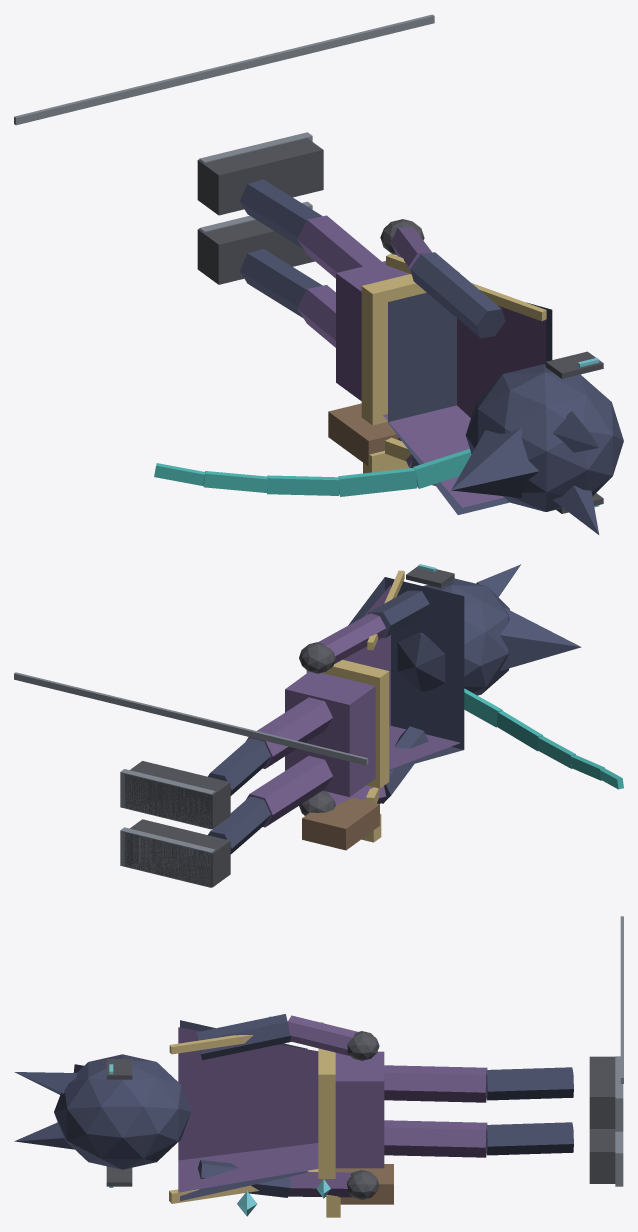
Rendered from vex_vale_lowpoly_blockout_static.glb.
3 renders of one model, top to bottom at view 1: azimuth 30°, elevation 25°; view 2: azimuth 150°, elevation 25°; view 3: azimuth 270°, elevation 25°, orthographic. The views are drawn at different scales.
Parts seen in each view (by area): view 1: CH_Vex_Hood_Cowl, CH_Vex_Torso_Undersuit, CH_Vex_Cropped_Jacket, CH_Vex_Shoe_R, CH_Vex_Belt, CH_Vex_Ground_Reference_DeleteMe, CH_Vex_Shoe_L, CH_Vex_Hood_BackPoint, CH_Vex_Pelvis, CH_Vex_UpperArm_R, CH_Vex_UpperLeg_R, CH_Vex_LowerLeg_L (+14 smaller); view 2: CH_Vex_Cropped_Jacket, CH_Vex_Hood_Cowl, CH_Vex_Pelvis, CH_Vex_Shoe_R, CH_Vex_Shoe_L, CH_Vex_Sole_L, CH_Vex_Ground_Reference_DeleteMe, CH_Vex_Satchel_CameraSide, CH_Vex_UpperLeg_L, CH_Vex_Belt, CH_Vex_Sole_R, CH_Vex_Torso_Undersuit (+15 smaller); view 3: CH_Vex_Torso_Undersuit, CH_Vex_Hood_Cowl, CH_Vex_Pelvis, CH_Vex_UpperLeg_L, CH_Vex_UpperLeg_R, CH_Vex_LowerLeg_L, CH_Vex_LowerLeg_R, CH_Vex_Belt, CH_Vex_UpperArm_R, CH_Vex_Shoe_R, CH_Vex_Forearm_R, CH_Vex_Shoe_L (+15 smaller).
Part boxes in pixels (x1,y1,x2,y2): CH_Vex_Hood_Cowl: [465, 364, 623, 511]; CH_Vex_Torso_Undersuit: [383, 305, 546, 507]; CH_Vex_Cropped_Jacket: [388, 292, 552, 514]; CH_Vex_Shoe_R: [197, 138, 323, 215]; CH_Vex_Belt: [361, 271, 459, 425]; CH_Vex_Ground_Reference_DeleteMe: [14, 14, 434, 125]; CH_Vex_Shoe_L: [197, 220, 314, 284]; CH_Vex_Hood_BackPoint: [451, 427, 538, 497]; CH_Vex_Pelvis: [336, 261, 409, 400]; CH_Vex_UpperArm_R: [410, 252, 505, 338]; CH_Vex_UpperLeg_R: [297, 215, 381, 278]; CH_Vex_LowerLeg_L: [239, 249, 322, 317]; CH_Vex_Cropped_Jacket: [348, 577, 464, 770]; CH_Vex_Hood_Cowl: [397, 578, 509, 695]; CH_Vex_Pelvis: [285, 671, 375, 797]; CH_Vex_Shoe_R: [124, 761, 230, 828]; CH_Vex_Shoe_L: [124, 819, 230, 887]; CH_Vex_Sole_L: [120, 827, 215, 887]; CH_Vex_Ground_Reference_DeleteMe: [14, 672, 368, 765]; CH_Vex_Satchel_CameraSide: [302, 797, 379, 850]; CH_Vex_UpperLeg_L: [246, 756, 332, 827]; CH_Vex_Belt: [306, 659, 389, 788]; CH_Vex_Sole_R: [120, 769, 215, 829]; CH_Vex_Torso_Undersuit: [343, 585, 460, 769]; CH_Vex_Torso_Undersuit: [178, 1027, 318, 1192]; CH_Vex_Hood_Cowl: [54, 1054, 190, 1169]; CH_Vex_Pelvis: [335, 1051, 384, 1168]; CH_Vex_UpperLeg_L: [384, 1120, 487, 1157]; CH_Vex_UpperLeg_R: [384, 1065, 487, 1102]; CH_Vex_LowerLeg_L: [486, 1122, 573, 1155]; CH_Vex_LowerLeg_R: [486, 1067, 573, 1100]; CH_Vex_Belt: [318, 1048, 335, 1178]; CH_Vex_UpperArm_R: [196, 1014, 291, 1060]; CH_Vex_Shoe_R: [589, 1056, 615, 1128]; CH_Vex_Forearm_R: [287, 1015, 358, 1056]; CH_Vex_Shoe_L: [589, 1129, 615, 1183].
Bounding box in the file's own units: 1.44 × 0.7425 × 1.91.
